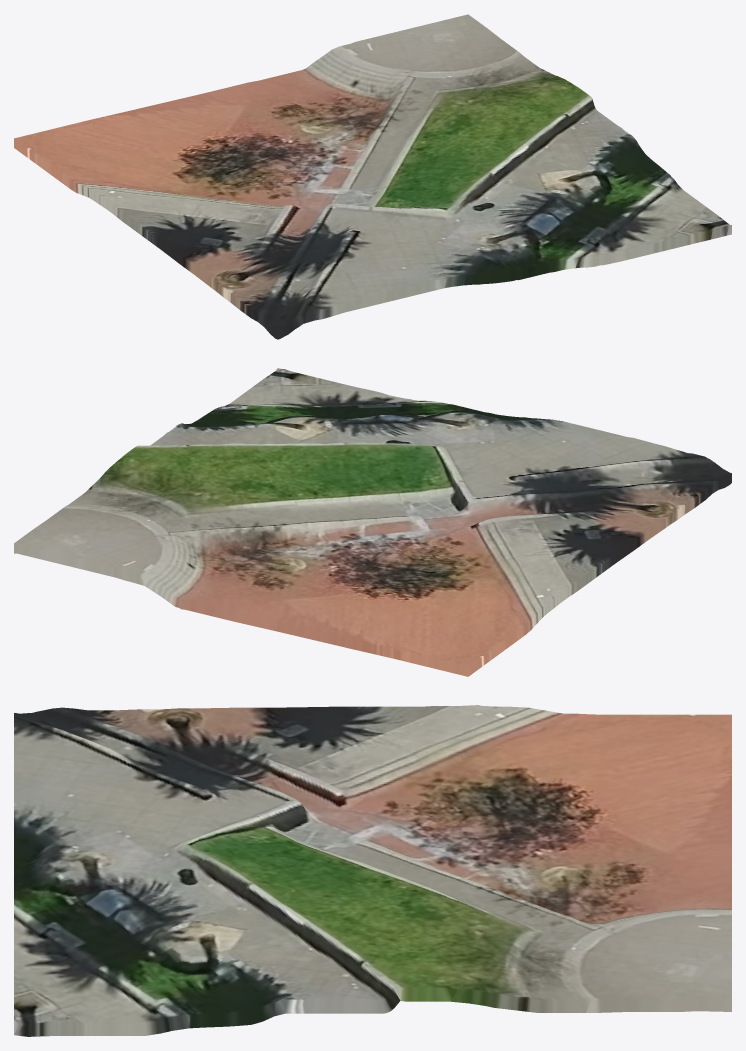
The model's file is z20-167787-405222-h0-yup-uvflip-v3-world.glb.
3 renders of one model, top to bottom at view 1: azimuth 30°, elevation 25°; view 2: azimuth 150°, elevation 25°; view 3: azimuth 270°, elevation 25°, orthographic. The views are drawn at different scales.
Bounding box in the file's own units: 30.16 × 2.4 × 30.32.
1 material, 1 textured.
